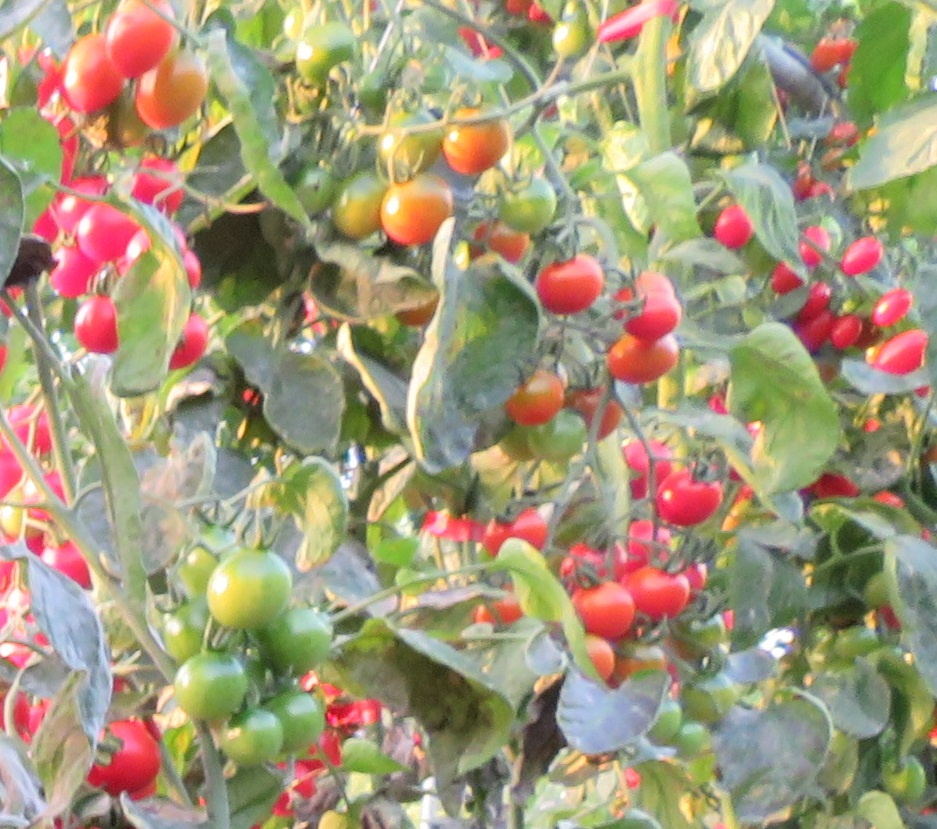green: (209, 548, 286, 634), (328, 159, 394, 243), (175, 657, 250, 720), (268, 604, 333, 669), (499, 171, 564, 236), (297, 21, 365, 83), (220, 714, 286, 772), (279, 689, 325, 754), (687, 677, 739, 722)
orange: (381, 175, 454, 248), (138, 54, 206, 131), (439, 106, 506, 173), (609, 340, 685, 384), (574, 583, 636, 636), (510, 381, 567, 424)
red: (96, 720, 173, 791), (60, 25, 111, 118), (534, 259, 615, 316), (108, 5, 168, 81), (482, 508, 553, 563), (76, 195, 136, 260), (651, 475, 727, 524), (634, 568, 696, 623), (627, 299, 690, 346), (161, 311, 215, 365), (52, 243, 101, 298), (73, 294, 117, 355), (877, 328, 934, 373), (840, 230, 885, 275), (870, 283, 915, 327), (712, 206, 753, 247), (830, 313, 859, 354), (805, 283, 832, 324), (768, 267, 801, 294)
